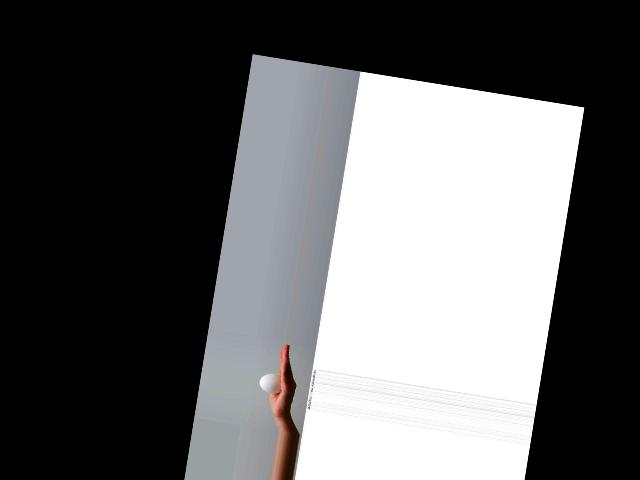egg: (258, 372, 284, 394)
